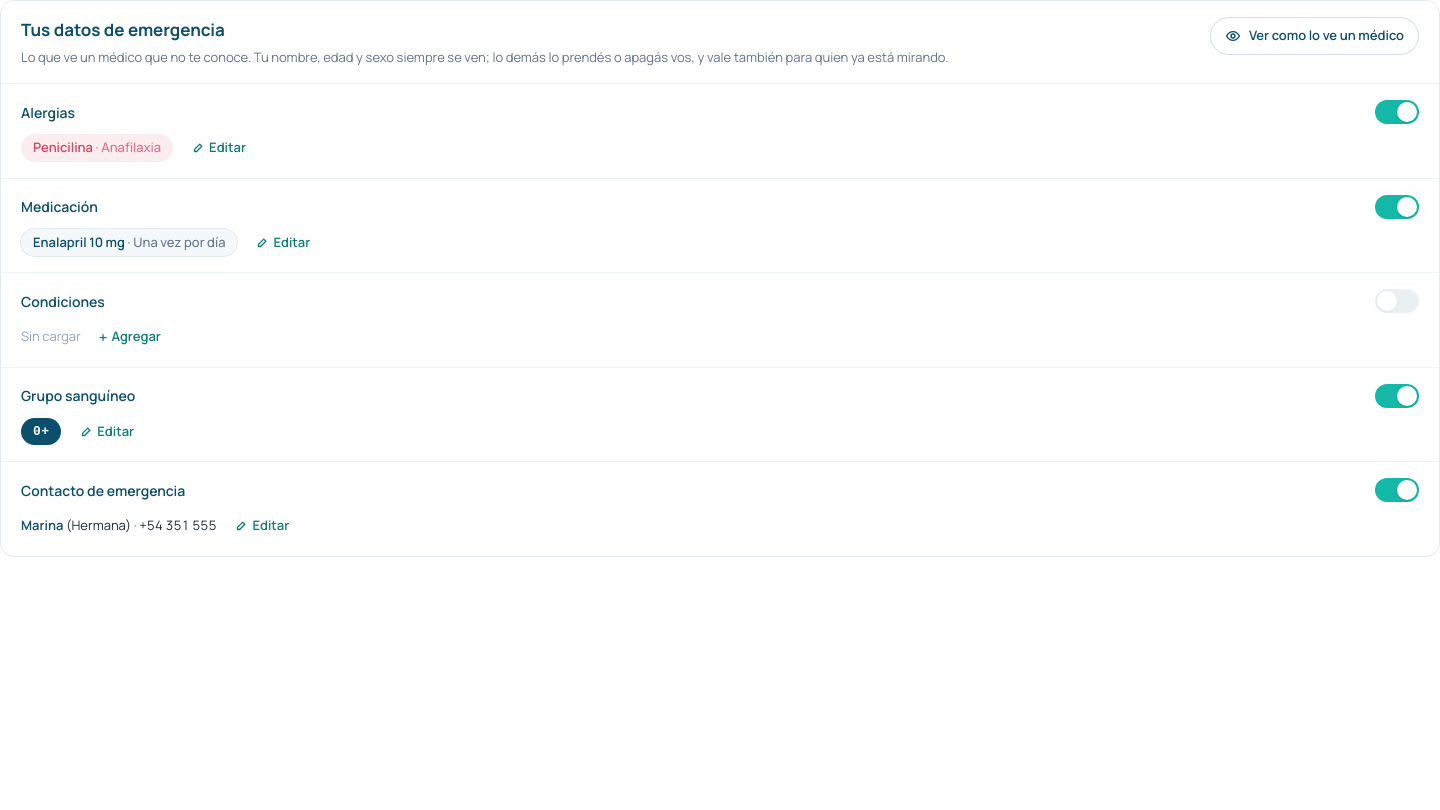
Test: EmergencyData › editar un bloque abre el panel, guarda y lo cierra
Click the button with aria-label "Editar alergias": (218, 148) 181,134 -> 256,162
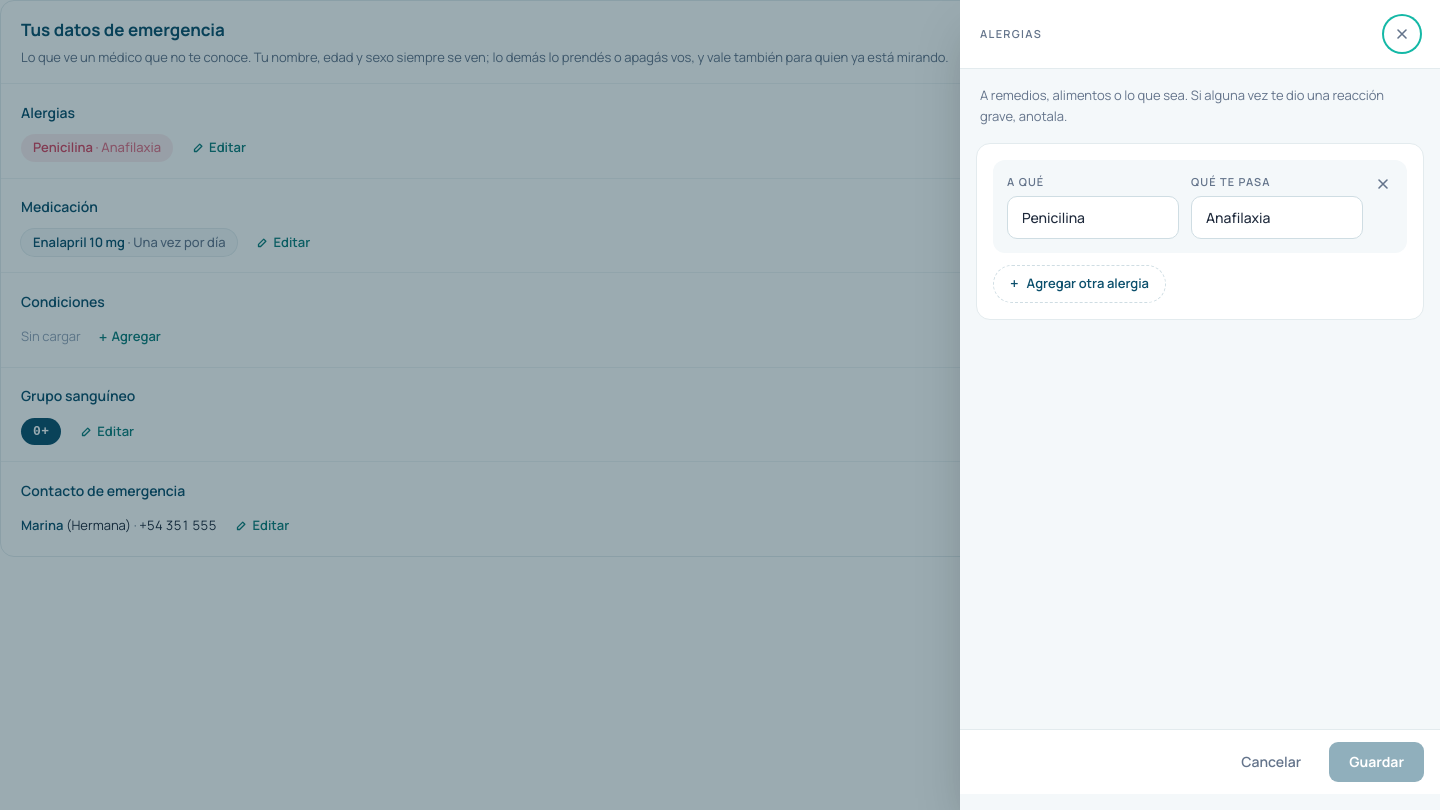
Check: the field showing "Penicilina" is shown, box 1007,196 -> 1179,239
Click the button "+ Agregar otra alergia": (1080, 284) 993,265 -> 1166,303
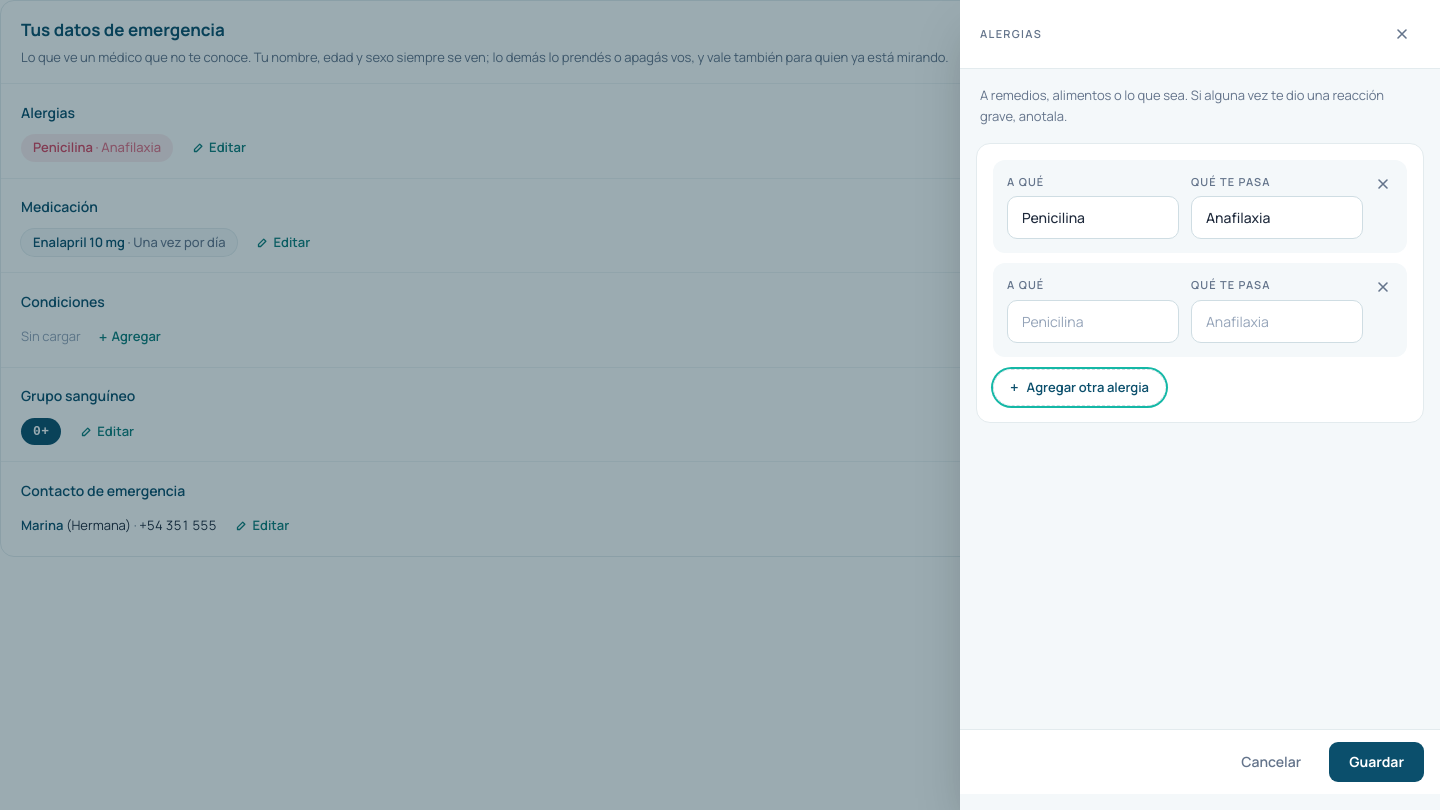
In the 2nd field with placeholder "Penicilina": (1093, 321) 1007,300 -> 1179,343, type "Látex"
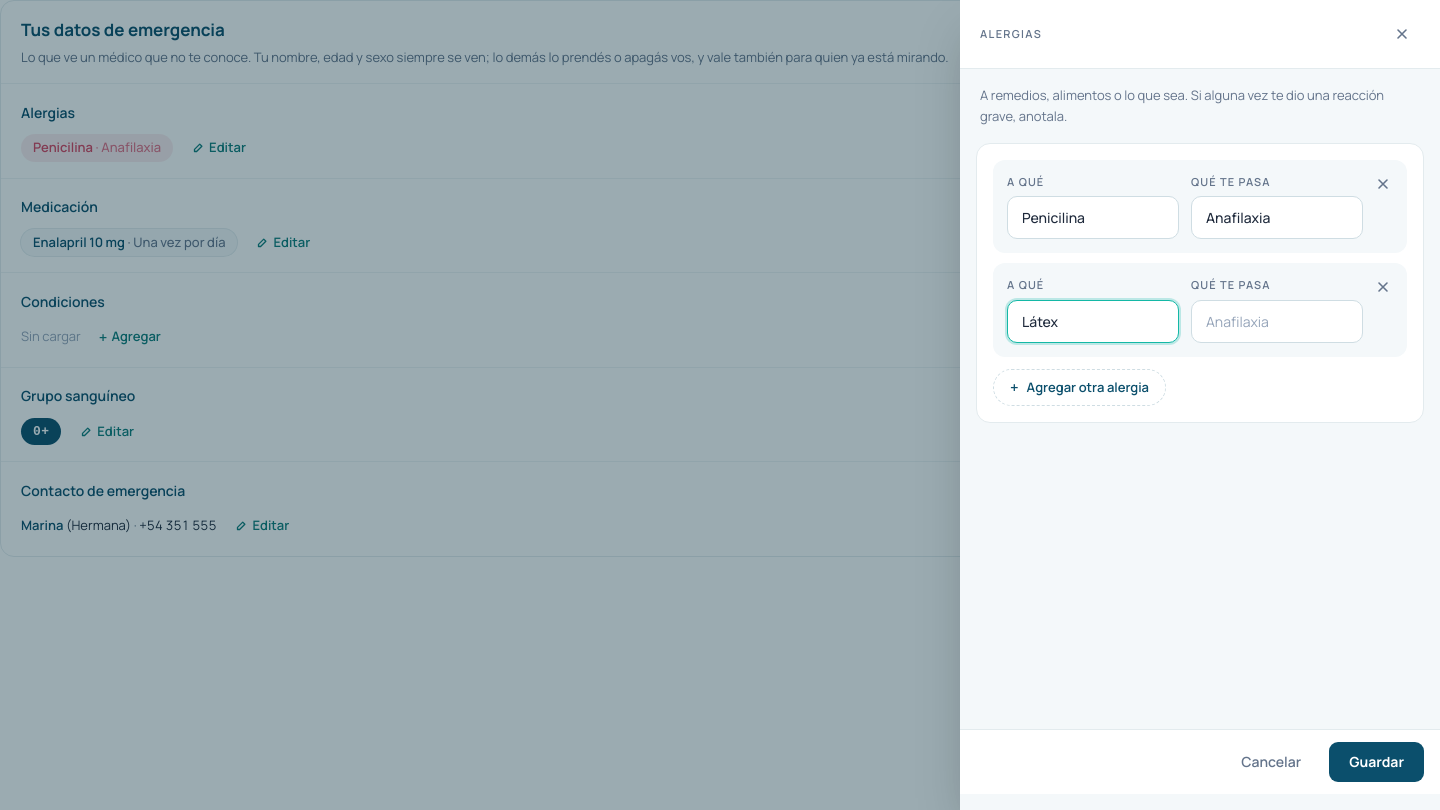
Click the button "Guardar": (1377, 762) 1329,742 -> 1424,782
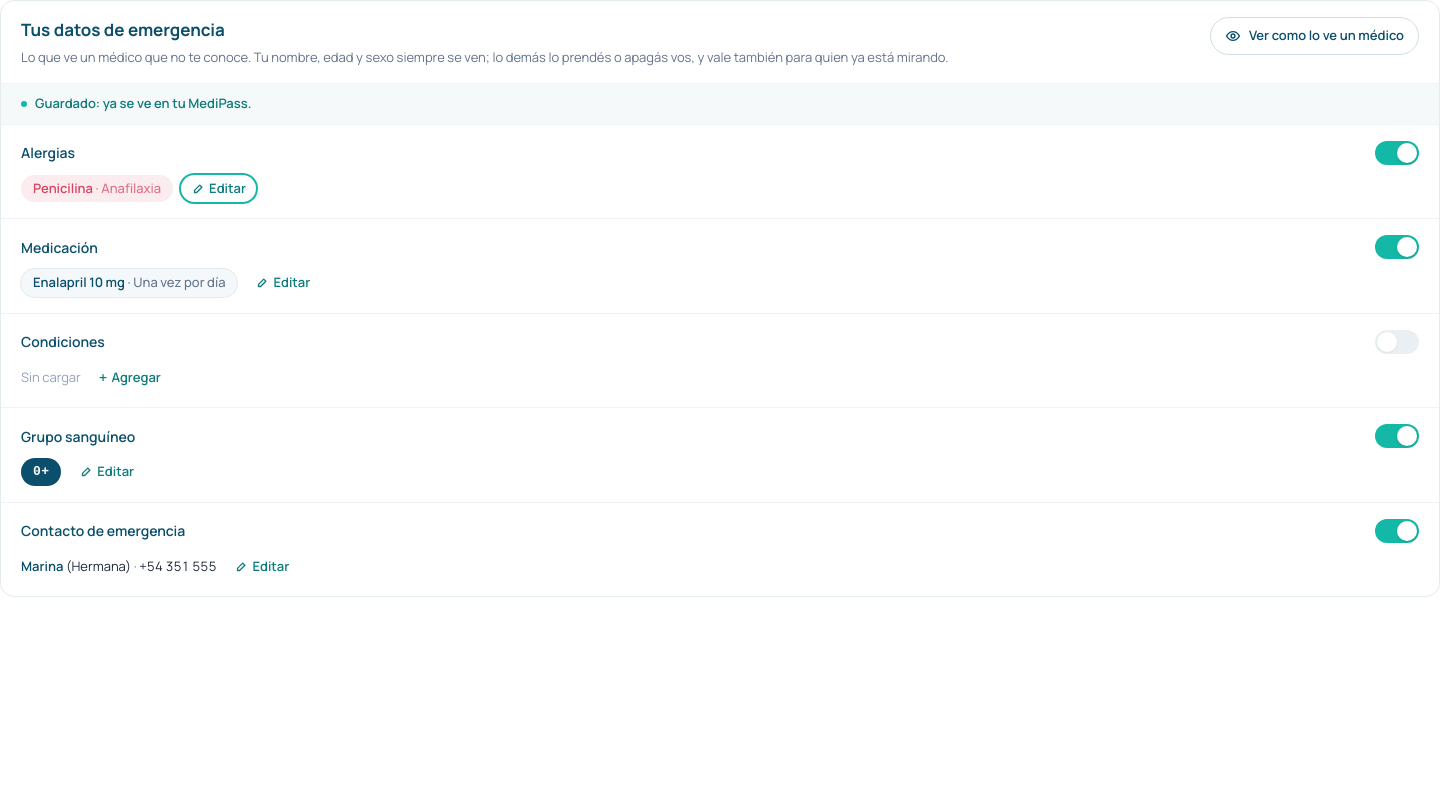
Check: the message shows "ya se ve en tu MediPass", box 35,94 -> 251,112
Check: the dialog is gone
